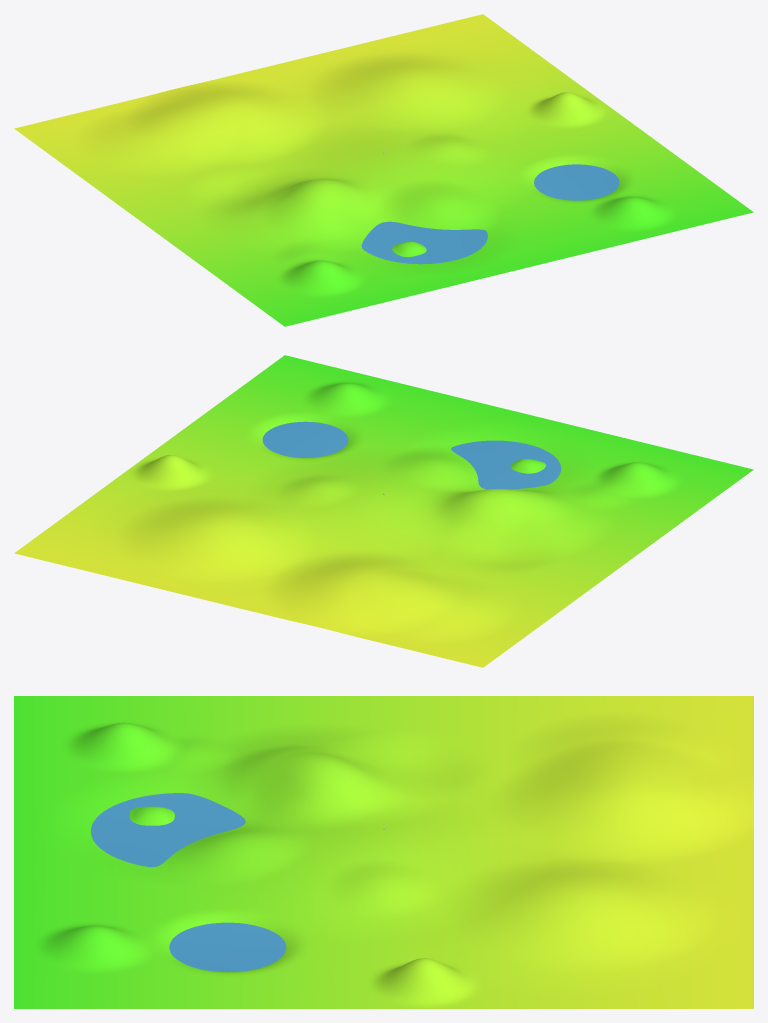
File: HerooMap1.fbx
3 renders of one model, top to bottom at view 1: azimuth 30°, elevation 25°; view 2: azimuth 150°, elevation 25°; view 3: azimuth 270°, elevation 25°, orthographic. The views are drawn at different scales.
Parts seen in each view (by area): view 1: Plane, Plane.002, Plane.001; view 2: Plane, Plane.002, Plane.001; view 3: Plane, Plane.002, Plane.001.
Boxes of the visible parts, bbox=[...] form: Plane: bbox=[14, 14, 753, 326]; Plane.002: bbox=[361, 221, 487, 264]; Plane.001: bbox=[534, 164, 619, 200]; Plane: bbox=[14, 355, 753, 667]; Plane.002: bbox=[451, 440, 561, 489]; Plane.001: bbox=[262, 421, 348, 457]; Plane: bbox=[14, 696, 753, 1008]; Plane.002: bbox=[90, 793, 245, 867]; Plane.001: bbox=[169, 922, 286, 972].
Size of the model in its own units: 1000 by 77.96 by 1000.
Materials: 1 (1 with a texture image).
